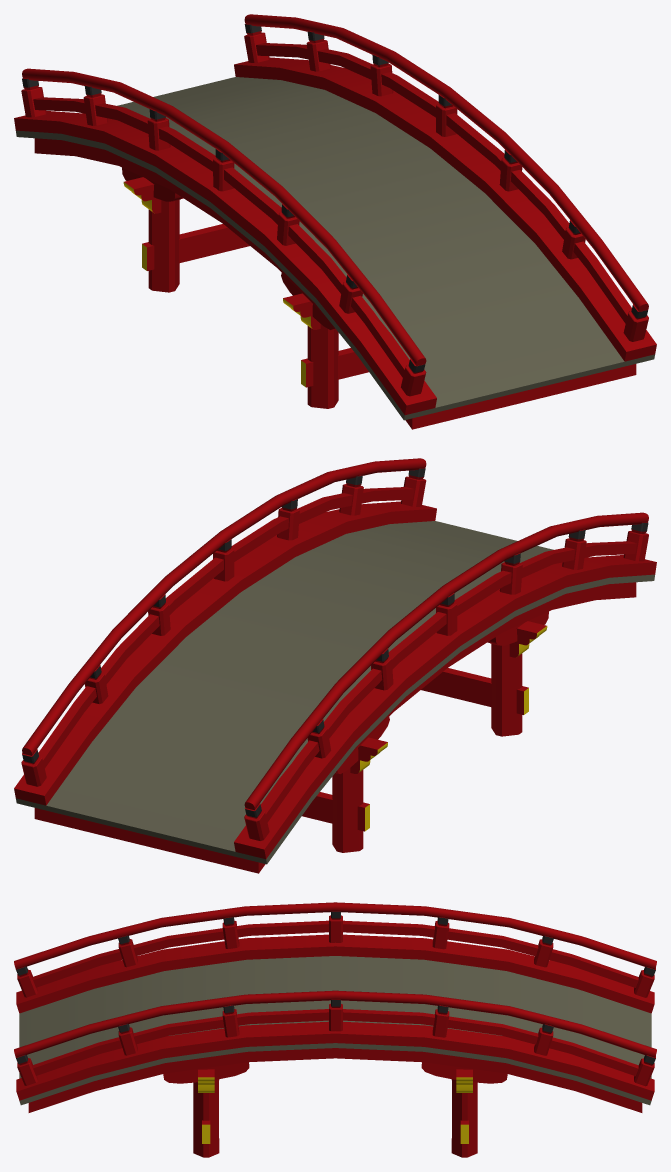
The model's file is EnvironmentArt_Bridge.fbx.
3 views of the same model, one above another, from view 1: azimuth 30°, elevation 25°; view 2: azimuth 150°, elevation 25°; view 3: azimuth 270°, elevation 25° (orthographic). The views are drawn at different scales.
Visible parts, largest first — view 1: MERGED_BRIDGE; view 2: MERGED_BRIDGE; view 3: MERGED_BRIDGE.
Part boxes in pixels (bbox=[...]): MERGED_BRIDGE: bbox=[14, 14, 656, 429]; MERGED_BRIDGE: bbox=[14, 458, 656, 873]; MERGED_BRIDGE: bbox=[14, 902, 656, 1157].
Bounding box in the file's own units: 553 × 431 × 1493.
